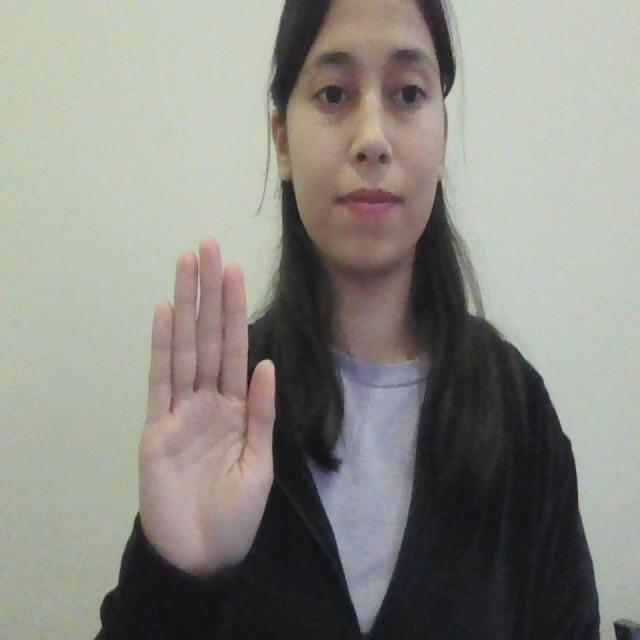Dur: (128, 208, 294, 582)
